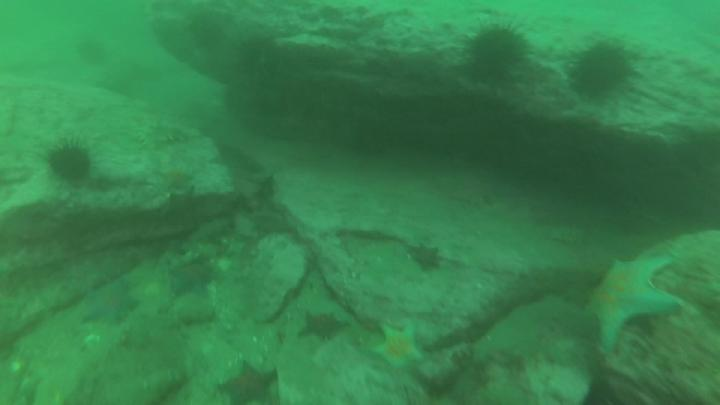echinus: (562, 34, 642, 104), (464, 18, 536, 88), (38, 139, 98, 188), (238, 39, 283, 84), (184, 11, 228, 54), (75, 38, 113, 70)
holothurian: (132, 121, 192, 158), (538, 220, 593, 249)
starfish: (582, 253, 686, 363), (372, 321, 432, 379), (79, 277, 143, 327), (214, 358, 282, 405), (164, 260, 220, 304), (296, 307, 351, 345), (407, 241, 448, 276), (159, 165, 191, 193)
